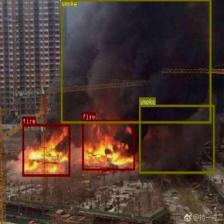fire: (82, 119, 135, 170), (22, 124, 70, 176)
smoke: (61, 0, 210, 124), (139, 104, 215, 174)
